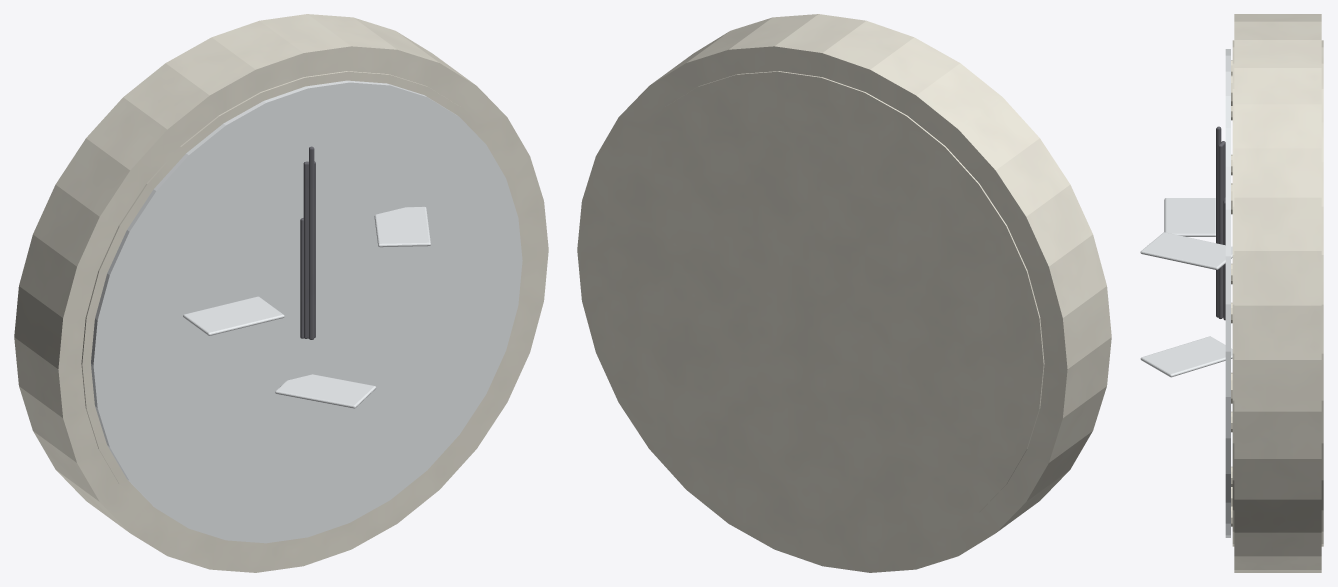
The model's file is PRP_WallClock_Broken.fbx.
3 views of the same model, side by side, from view 1: azimuth 30°, elevation 25°; view 2: azimuth 150°, elevation 25°; view 3: azimuth 270°, elevation 25° (orthographic).
Parts seen in each view (by area): view 1: Clock_Glass_Gone, Clock_Body, Clock_Shard_01, Clock_Shard_03, Clock_Shard_02, Clock_Hand_M, Clock_Hand_S; view 2: Clock_Body; view 3: Clock_Body, Clock_Glass_Gone, Clock_Shard_03, Clock_Shard_02, Clock_Shard_01, Clock_Hand_M, Clock_Hand_S, Clock_Hand_H.
Boxes of the visible parts, left/top/right/bottom form: Clock_Glass_Gone: left=91, top=80, right=522, bottom=543; Clock_Body: left=14, top=14, right=548, bottom=572; Clock_Shard_01: left=183, top=296, right=284, bottom=335; Clock_Shard_03: left=275, top=374, right=376, bottom=408; Clock_Shard_02: left=374, top=206, right=430, bottom=247; Clock_Hand_M: left=303, top=161, right=315, bottom=338; Clock_Hand_S: left=309, top=146, right=314, bottom=339; Clock_Body: left=577, top=14, right=1111, bottom=572; Clock_Body: left=1231, top=14, right=1323, bottom=572; Clock_Glass_Gone: left=1225, top=49, right=1230, bottom=537; Clock_Shard_03: left=1140, top=336, right=1232, bottom=377; Clock_Shard_02: left=1140, top=232, right=1232, bottom=269; Clock_Shard_01: left=1164, top=198, right=1215, bottom=236; Clock_Hand_M: left=1218, top=141, right=1225, bottom=318; Clock_Hand_S: left=1216, top=126, right=1221, bottom=317; Clock_Hand_H: left=1223, top=197, right=1225, bottom=320.
Size of the model in its own units: 32 by 32 by 10.47.
